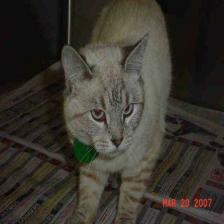cat: (60, 36, 157, 160)
